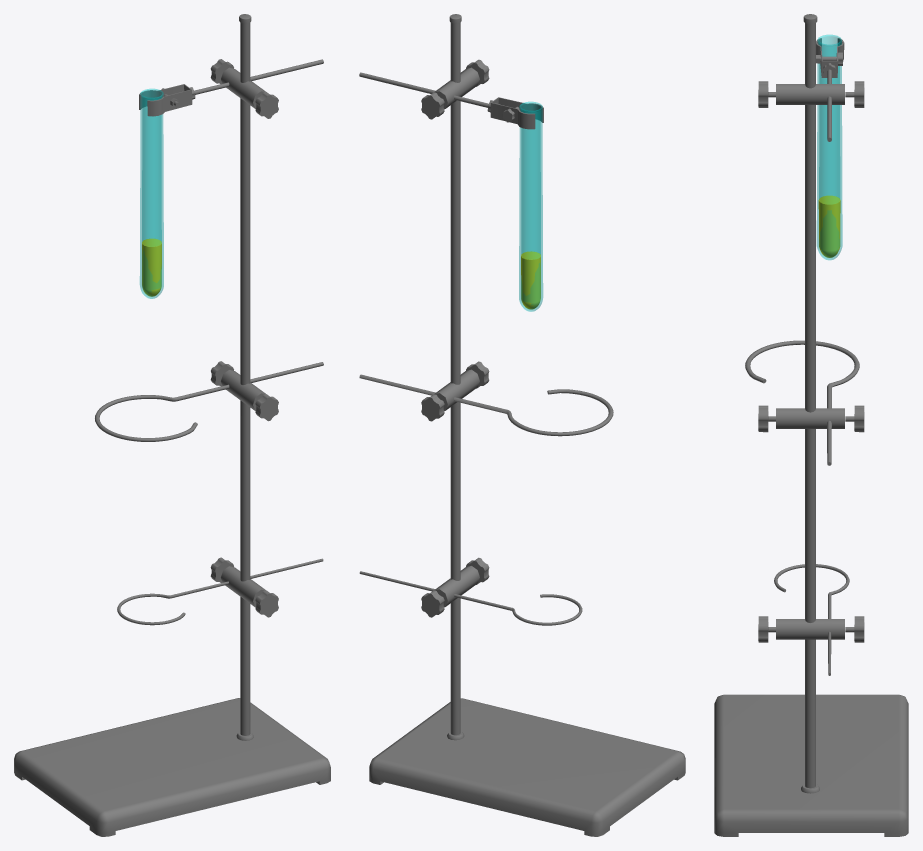
The model's file is SM_Test tube rack1.fbx.
3 views of the same model, side by side, from view 1: azimuth 30°, elevation 25°; view 2: azimuth 150°, elevation 25°; view 3: azimuth 270°, elevation 25° (orthographic). The views are drawn at different scales.
Parts seen in each view (by area): view 1: Test_tube_rack1; view 2: Test_tube_rack1; view 3: Test_tube_rack1.
Boxes of the visible parts, x1=… form: Test_tube_rack1: x1=14, y1=14, x2=330, y2=836; Test_tube_rack1: x1=359, y1=14, x2=685, y2=836; Test_tube_rack1: x1=714, y1=14, x2=908, y2=836.
Size of what is drawn, in the model's own units: 21.09 by 54.38 by 12.
